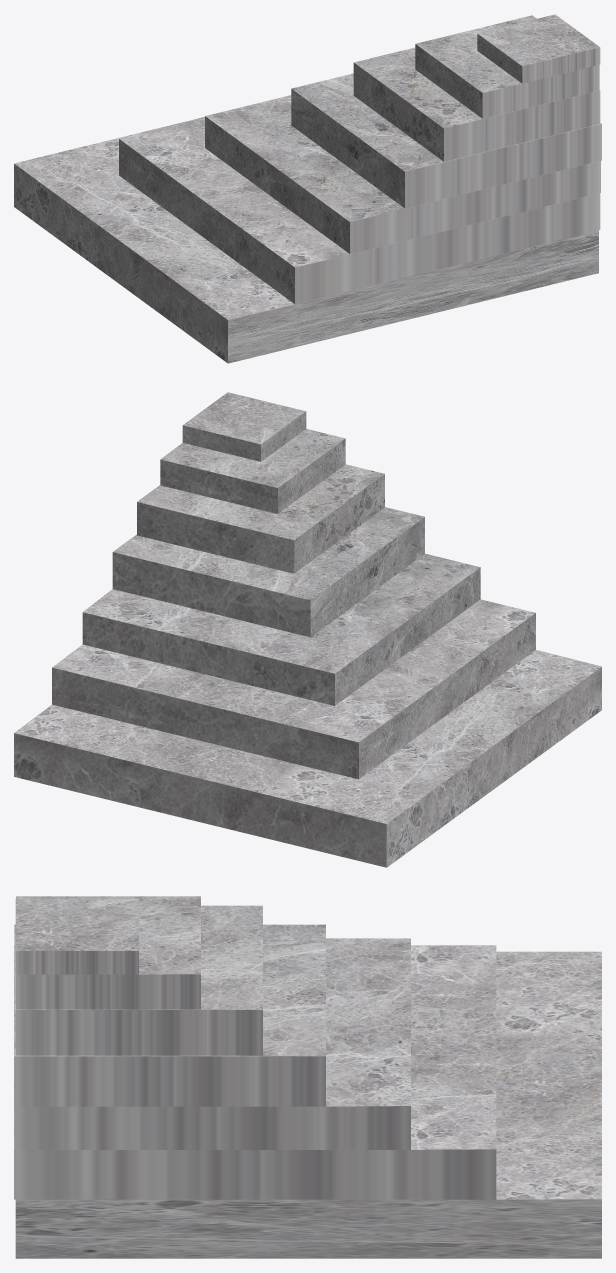
Rendered from Staris (1).fbx.
3 views of the same model, one above another, from view 1: azimuth 30°, elevation 25°; view 2: azimuth 150°, elevation 25°; view 3: azimuth 270°, elevation 25° (orthographic). The views are drawn at different scales.
Parts seen in each view (by area): view 1: pCube1; view 2: pCube1; view 3: pCube1.
Boxes of the visible parts, x1,y1,x2,y2 form: pCube1: [14, 14, 601, 363]; pCube1: [14, 392, 601, 867]; pCube1: [14, 896, 601, 1258].
Bounding box in the file's own units: 0.1511 × 0.0872 × 0.1505.
Materials: 1 (1 with a texture image).
